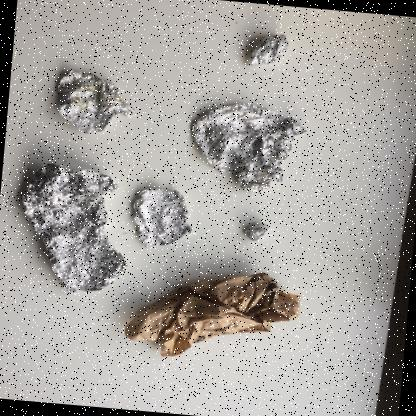Aluminium foil: (22, 164, 127, 296), (192, 103, 308, 194), (58, 70, 137, 134), (133, 187, 193, 248), (250, 34, 289, 67), (245, 222, 270, 242)
Paper bag: (125, 272, 300, 357)
